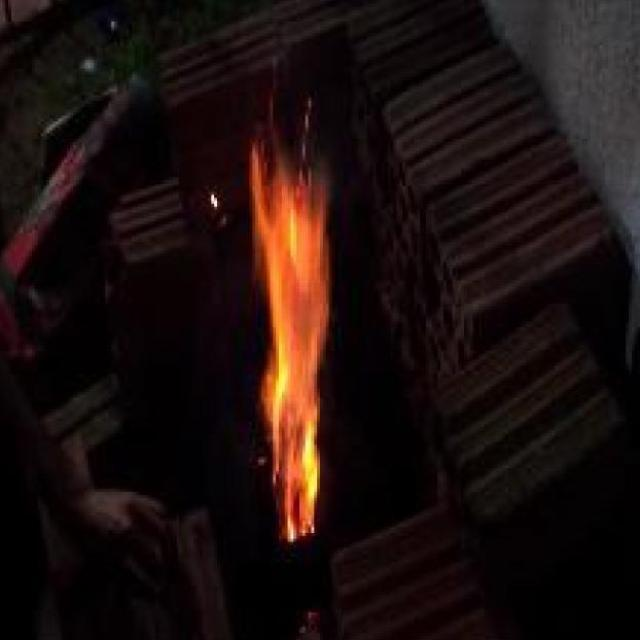smoke: (246, 103, 332, 542)
